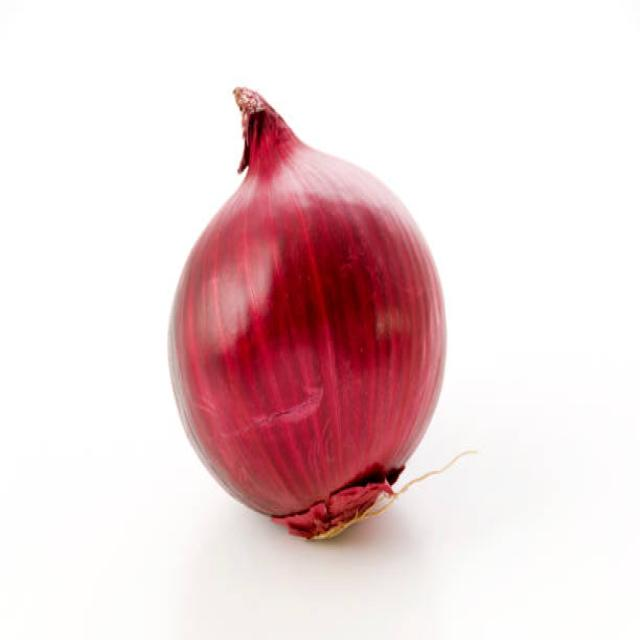onion: (159, 131, 448, 538)
